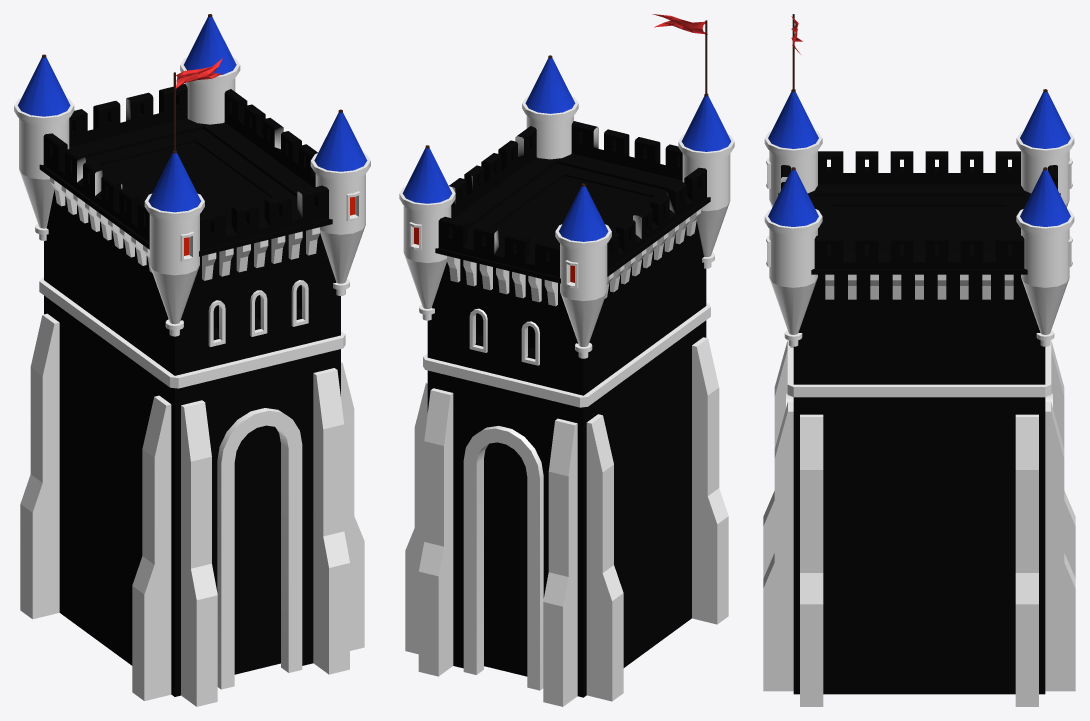
File: citadel_tower_b.FBX
The picture shows the model from 3 angles, left to right: view 1: azimuth 30°, elevation 25°; view 2: azimuth 150°, elevation 25°; view 3: azimuth 270°, elevation 25°; orthographic projection. The views are drawn at different scales.
Parts seen in each view (by area): view 1: citadel_tower_b; view 2: citadel_tower_b; view 3: citadel_tower_b.
Boxes of the visible parts, bbox=[...] form: citadel_tower_b: bbox=[14, 14, 370, 706]; citadel_tower_b: bbox=[399, 14, 734, 706]; citadel_tower_b: bbox=[763, 14, 1075, 706].
Bounding box in the file's own units: 1458 × 3954 × 1858.
